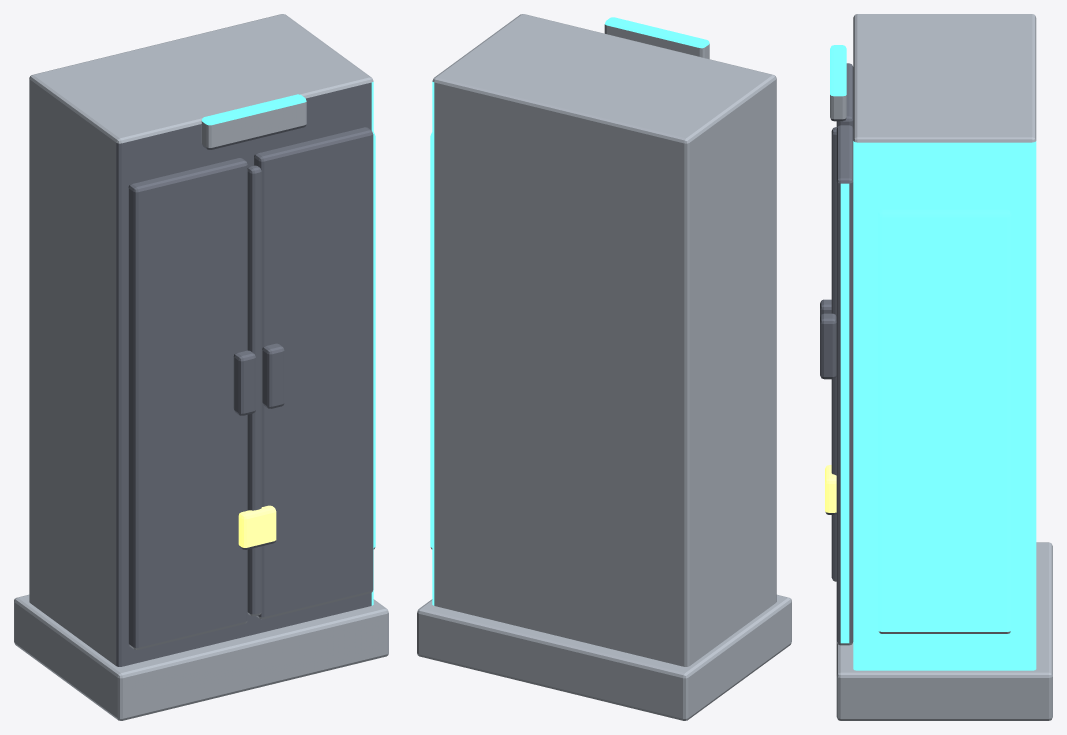
Rendered from Hangar_Locker.fbx.
The picture shows the model from 3 angles, left to right: view 1: azimuth 30°, elevation 25°; view 2: azimuth 150°, elevation 25°; view 3: azimuth 270°, elevation 25°; orthographic projection.
Visible parts, largest first — view 1: Hangar_Locker_Buffer; view 2: Hangar_Locker_Buffer; view 3: Hangar_Locker_Buffer.
Boxes of the visible parts, bbox=[...] form: Hangar_Locker_Buffer: bbox=[14, 14, 388, 720]; Hangar_Locker_Buffer: bbox=[417, 14, 791, 720]; Hangar_Locker_Buffer: bbox=[820, 14, 1052, 720].
Size of the model in its own units: 0.975 by 1.95 by 0.7.
